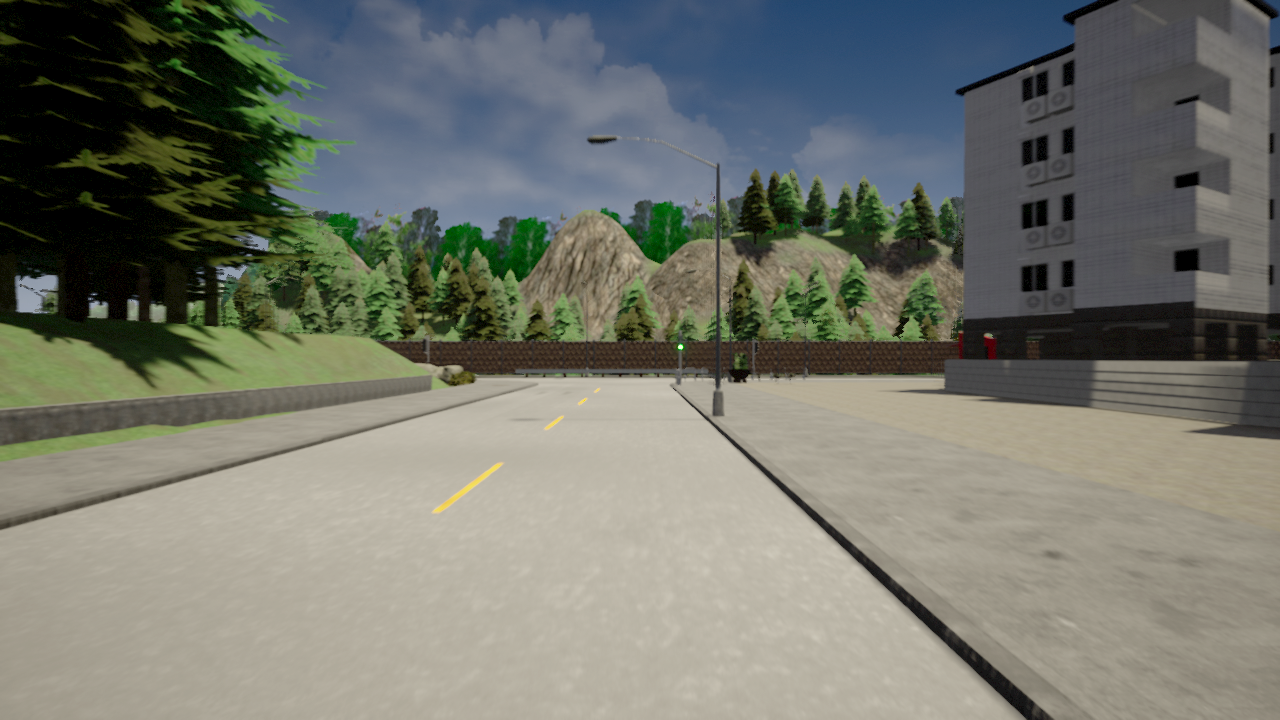green: (676, 335, 684, 351)
